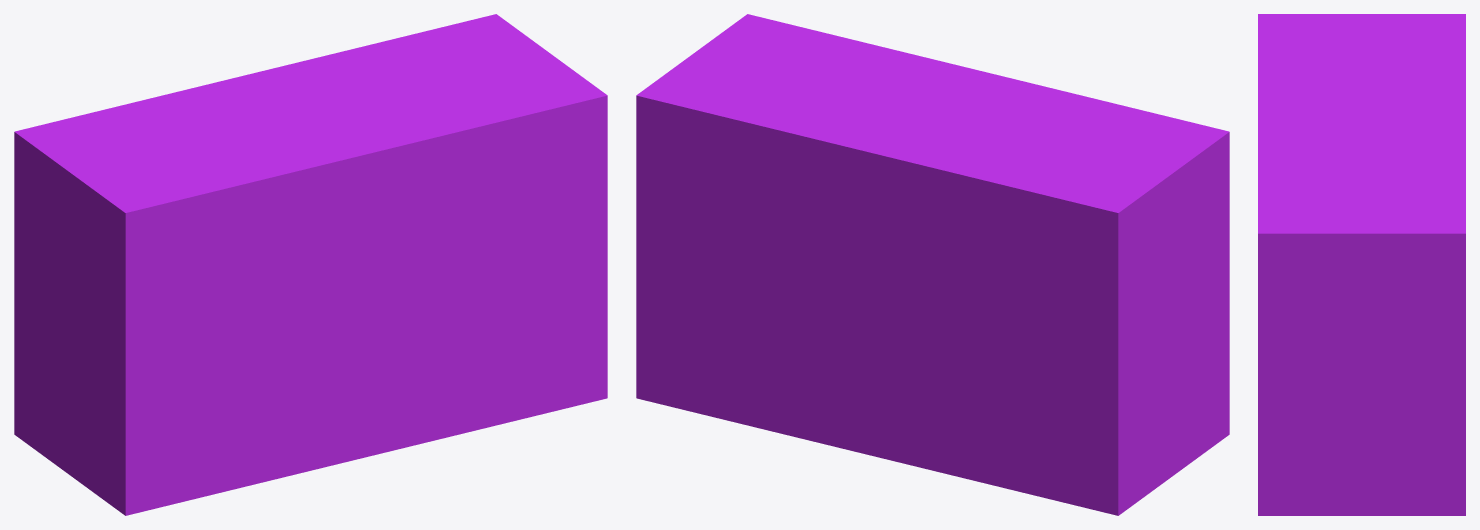
File: obj_rubbish4.dae
3 renders of one model, left to right at view 1: azimuth 30°, elevation 25°; view 2: azimuth 150°, elevation 25°; view 3: azimuth 270°, elevation 25°, orthographic. The views are drawn at different scales.
Parts seen in each view (by area): view 1: obj_rubbish4; view 2: obj_rubbish4; view 3: obj_rubbish4.
Boxes of the visible parts, bbox=[...] form: obj_rubbish4: bbox=[14, 14, 607, 515]; obj_rubbish4: bbox=[636, 14, 1229, 515]; obj_rubbish4: bbox=[1258, 14, 1465, 515].
Size of the model in its own units: 0.5 by 0.2 by 0.3.
1 material, 1 textured.
